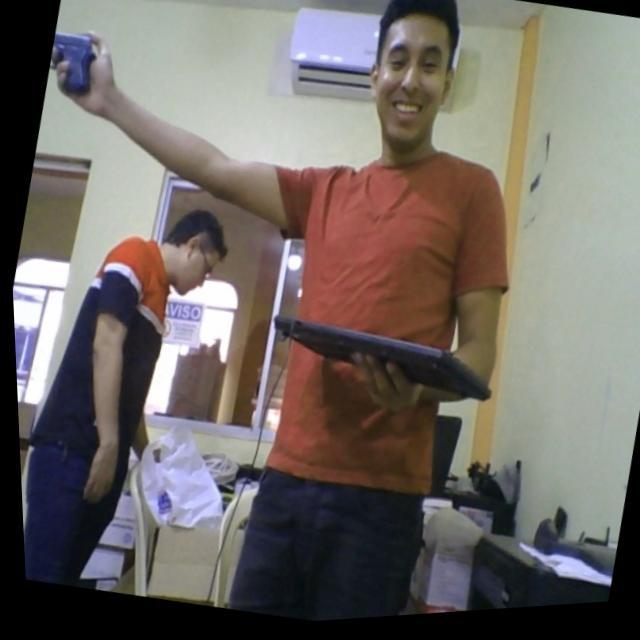weapon: (42, 26, 104, 101)
